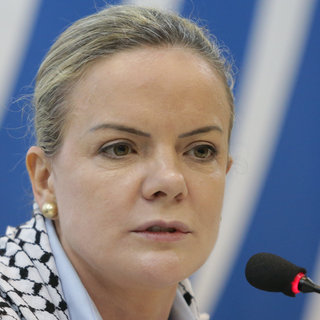eye: (92, 138, 143, 163), (178, 138, 225, 164)
